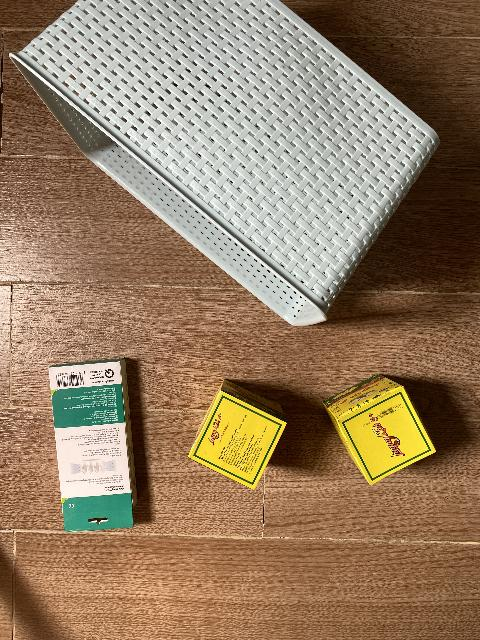4D_medical_face-mask: (48, 358, 137, 533)
cart: (9, 0, 439, 327)
luong_kho: (322, 374, 436, 486), (188, 379, 287, 490)
